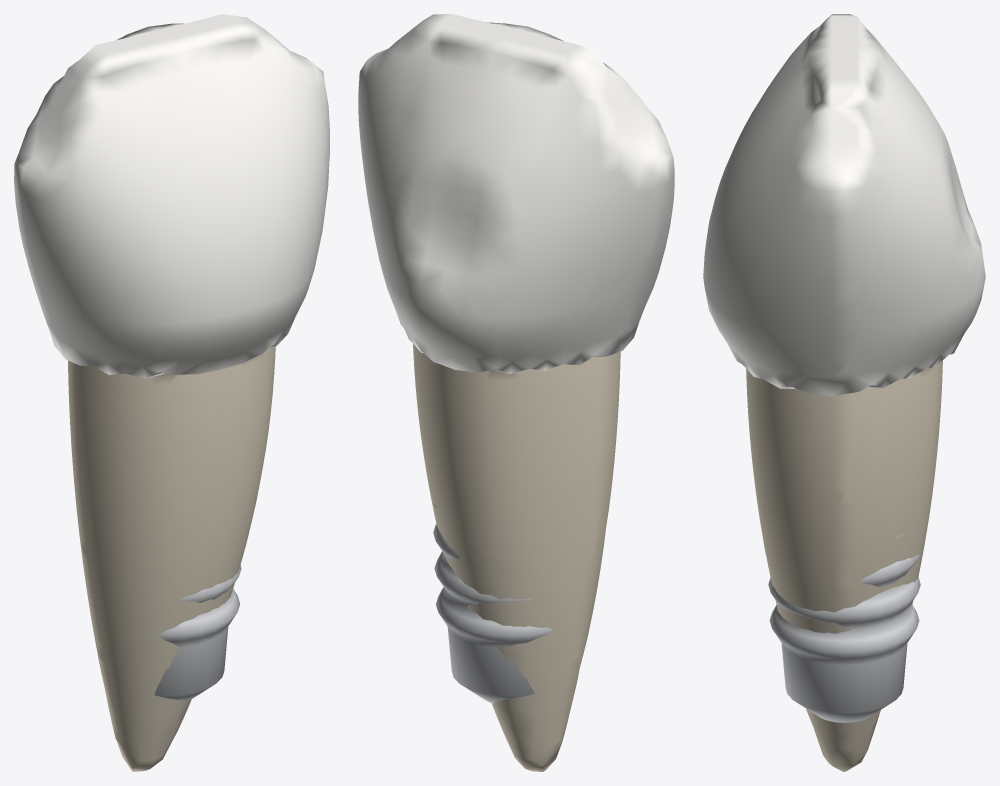
3 views of the same model, side by side, from view 1: azimuth 30°, elevation 25°; view 2: azimuth 150°, elevation 25°; view 3: azimuth 270°, elevation 25° (orthographic).
Parts seen in each view (by area): view 1: crown, root, implant; view 2: crown, root, implant; view 3: crown, root, implant.
Boxes of the visible parts, x1=… form: crown: x1=14, y1=14, x2=329, y2=378; root: x1=68, y1=347, x2=275, y2=771; implant: x1=154, y1=565, x2=241, y2=699; crown: x1=358, y1=14, x2=674, y2=373; root: x1=413, y1=344, x2=620, y2=771; implant: x1=433, y1=503, x2=553, y2=703; crown: x1=703, y1=14, x2=985, y2=396; root: x1=746, y1=360, x2=942, y2=771; implant: x1=768, y1=534, x2=920, y2=722.
Size of the model in its own units: 7.13 by 16.33 by 5.7.
